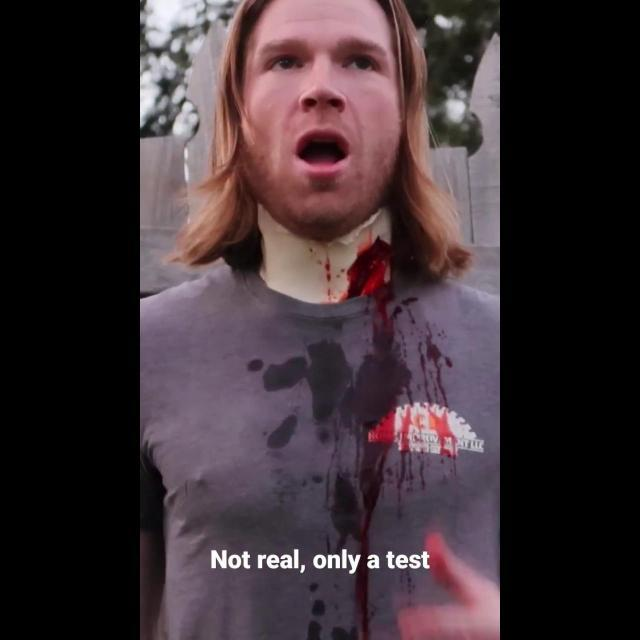blood: (329, 283, 430, 556), (396, 404, 458, 459), (346, 238, 392, 298), (416, 322, 447, 406), (350, 548, 370, 640), (320, 258, 346, 304), (331, 628, 356, 640)
